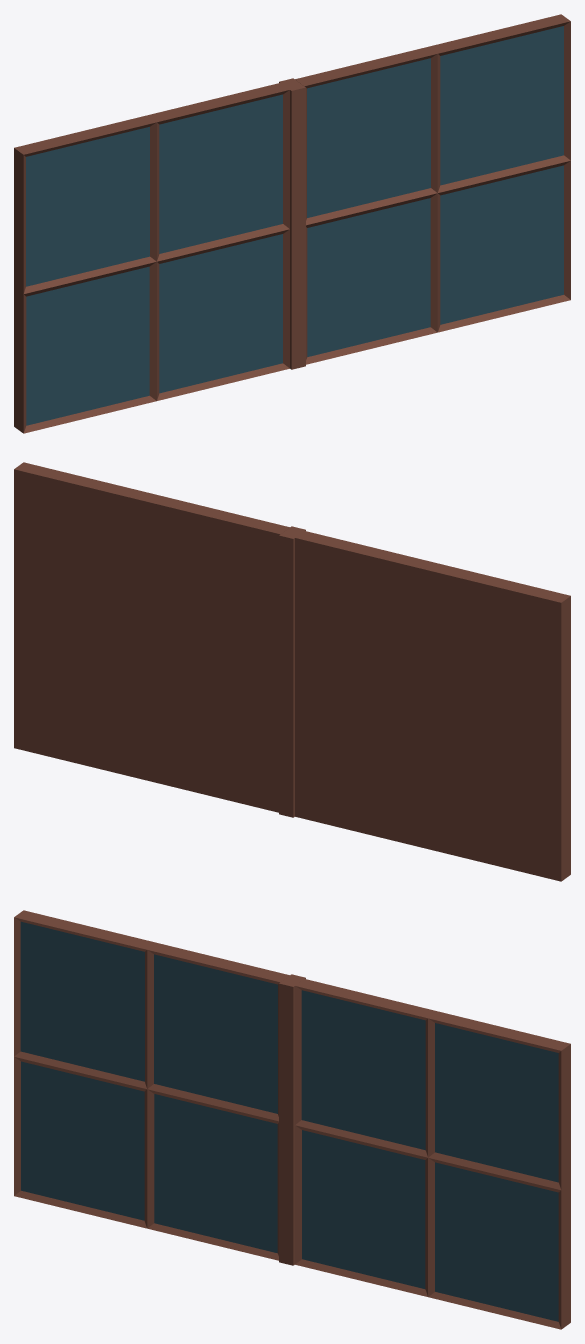
Rendered from window.fbx.
The picture shows the model from 3 angles, top to bottom: view 1: azimuth 30°, elevation 25°; view 2: azimuth 150°, elevation 25°; view 3: azimuth 330°, elevation 25°; orthographic projection.
Parts seen in each view (by area): view 1: window1, window2, frame; view 2: window1, window2, frame; view 3: window2, window1, frame.
Part boxes in pixels (x1,y1,x2,y2): window1: (14, 83, 289, 433); window2: (295, 14, 570, 364); frame: (279, 78, 305, 369); window1: (295, 531, 570, 881); window2: (14, 462, 289, 812); frame: (279, 526, 305, 817); window2: (295, 979, 570, 1329); window1: (14, 910, 289, 1260); frame: (279, 974, 305, 1265).
Bounding box in the file's own units: 690 × 336 × 27.56.
